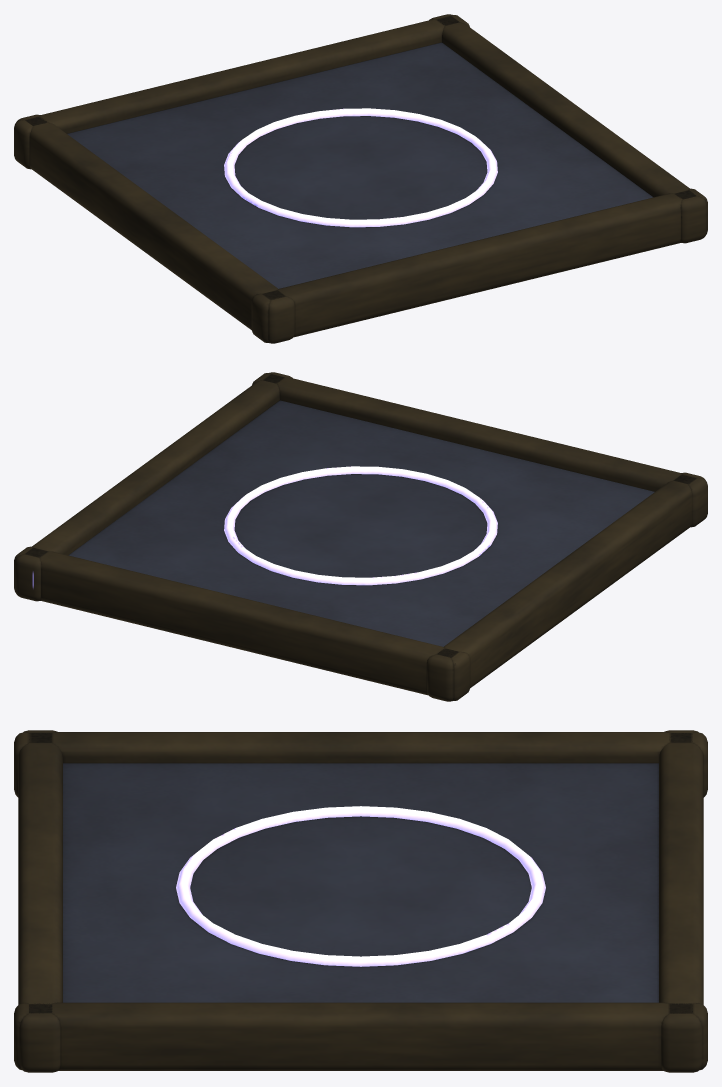
Rendered from SM_BenchSlot_Space.glb.
The picture shows the model from 3 angles, top to bottom: view 1: azimuth 30°, elevation 25°; view 2: azimuth 150°, elevation 25°; view 3: azimuth 270°, elevation 25°; orthographic projection. The views are drawn at different scales.
Parts seen in each view (by area): view 1: BenchSlot; view 2: BenchSlot; view 3: BenchSlot.
Boxes of the visible parts, x1,y1,x2,y2 form: BenchSlot: (14,14,707,343); BenchSlot: (14,372,707,701); BenchSlot: (14,730,707,1072).
Size of the model in its own units: 0.78 by 0.08 by 0.78.
Materials: 1 (1 with a texture image).
